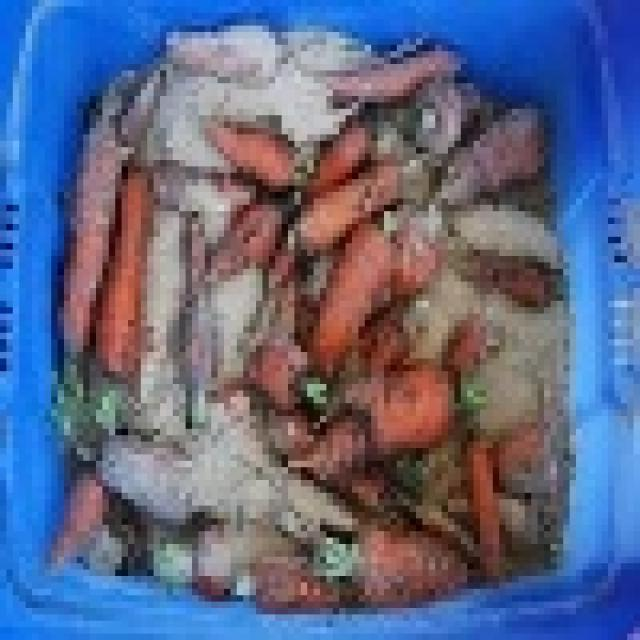Stale_Carrot: (101, 61, 532, 549)
